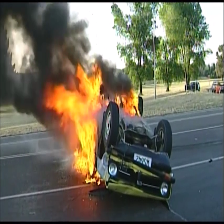fire_h: (43, 64, 108, 174), (122, 88, 142, 117)
fire_l: (85, 171, 101, 184), (114, 95, 121, 105)
